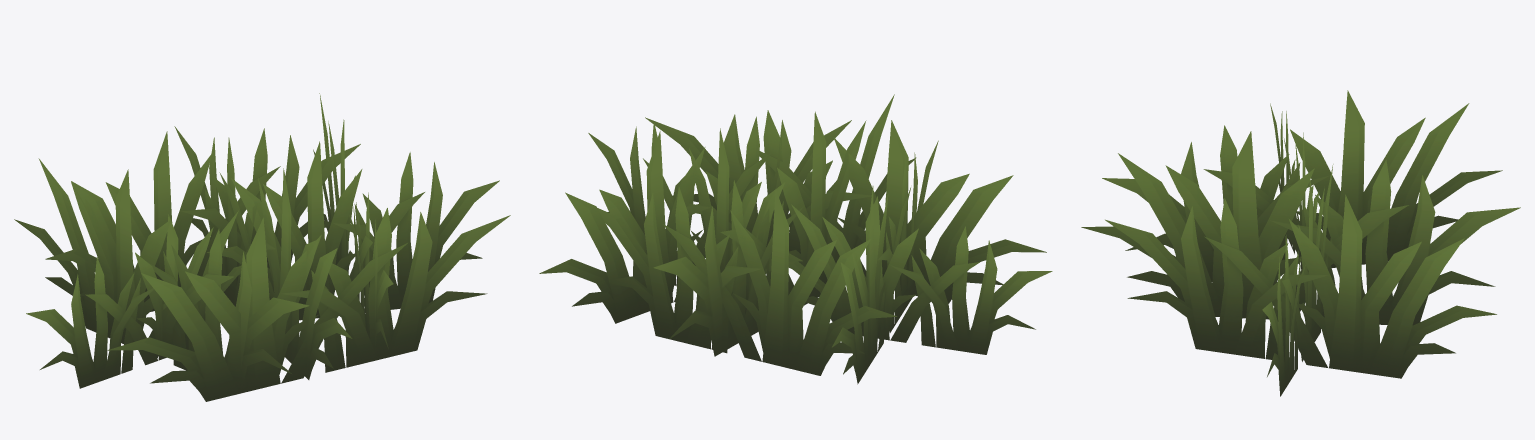
File: SM_Env_Grass_Alpine_03.fbx
3 renders of one model, left to right at view 1: azimuth 30°, elevation 25°; view 2: azimuth 150°, elevation 25°; view 3: azimuth 270°, elevation 25°, orthographic.
Parts seen in each view (by area): view 1: SM_Env_Grass_Alpine_03_LOD0; view 2: SM_Env_Grass_Alpine_03_LOD0; view 3: SM_Env_Grass_Alpine_03_LOD0.
Part boxes in pixels (x1,y1,x2,y2): SM_Env_Grass_Alpine_03_LOD0: (14,93,510,401); SM_Env_Grass_Alpine_03_LOD0: (539,94,1052,384); SM_Env_Grass_Alpine_03_LOD0: (1081,90,1520,396).
Size of what is drawn, in the model's own units: 179 by 82.71 by 145.
